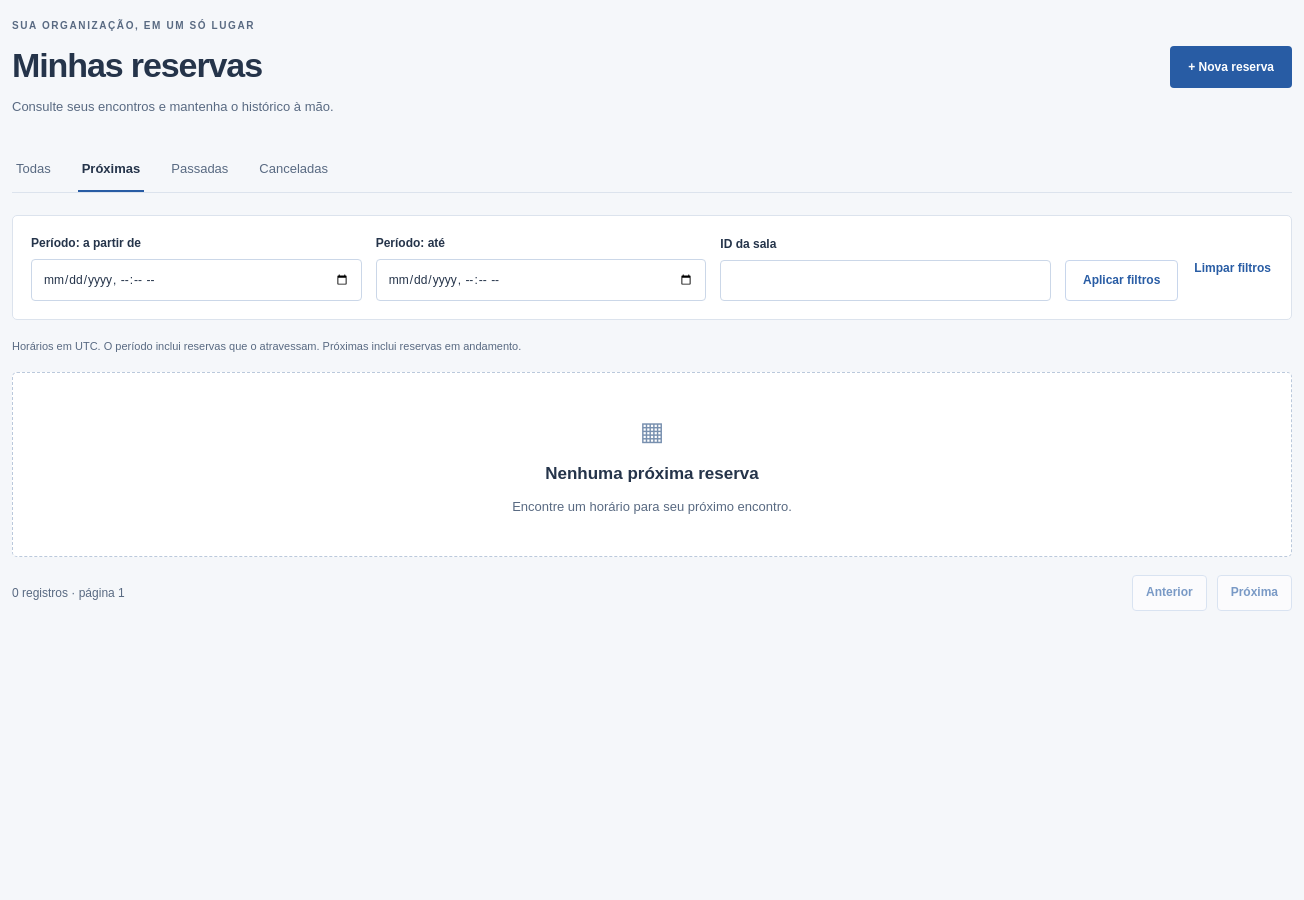
Test: recovery, focus, and persistent announcements › keeps filter correction focus while typing after invalid dates
Expected: the heading "Nenhuma próxima reserva" is shown, x1=545 y1=461 x2=759 y2=487
Type "2030-01-02T10:00" into the field labelled "Período: a partir de". click: (196, 280)
box: x1=31 y1=259 x2=362 y2=301
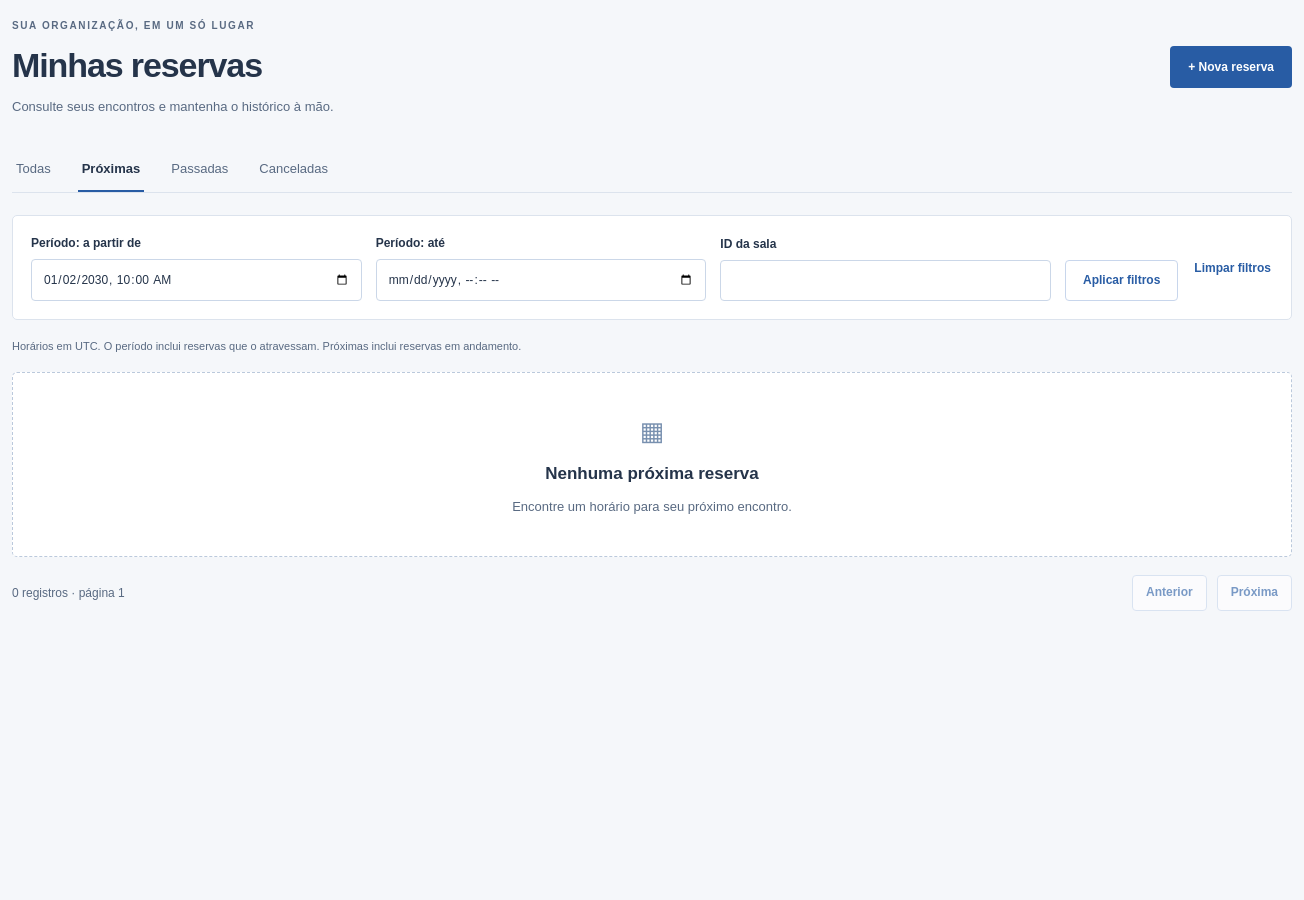
Type "2030-01-01T10:00" into the field labelled "Período: até". click: (541, 280)
box: x1=376 y1=259 x2=706 y2=301
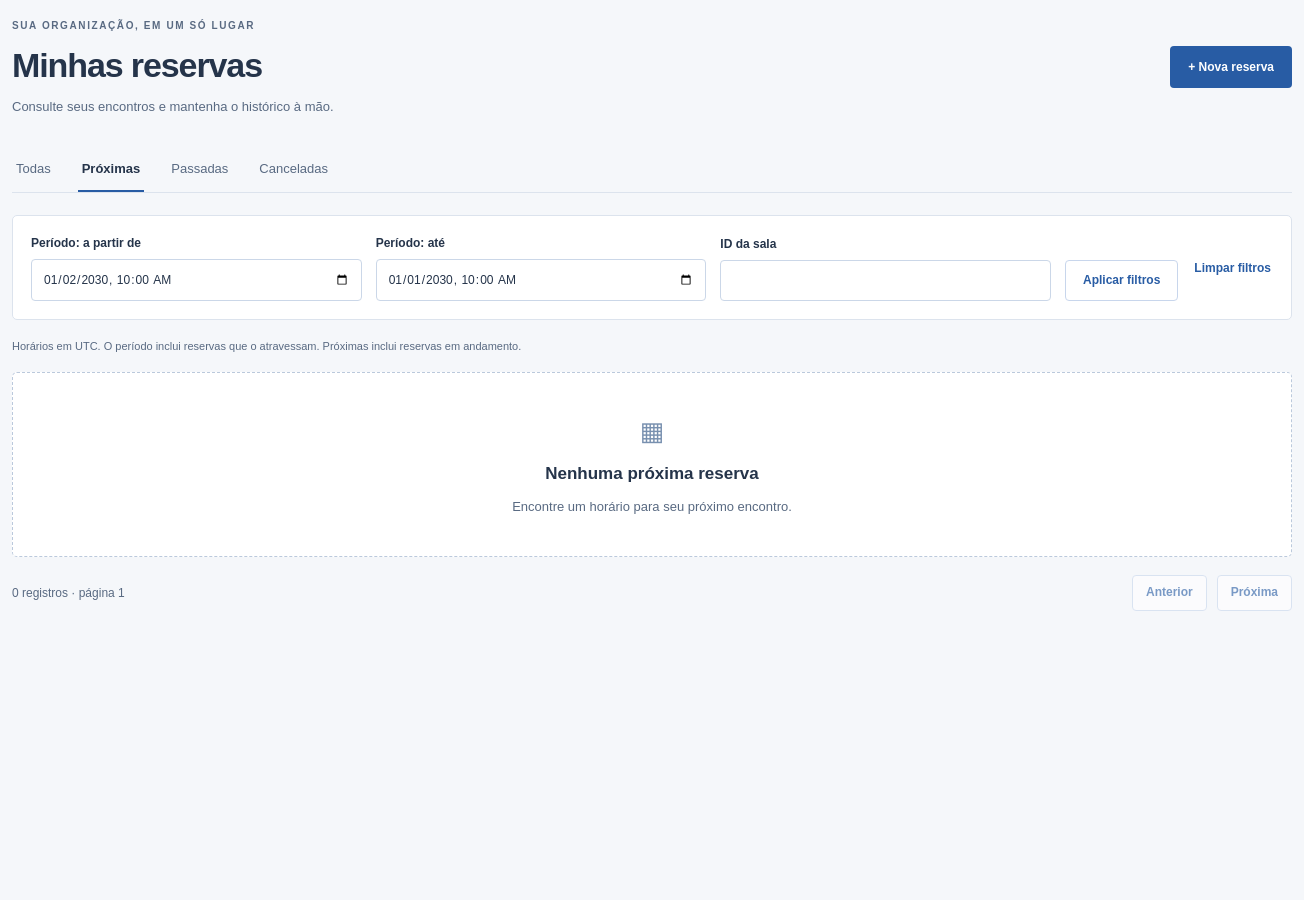
Click the button "Aplicar filtros". click: (1122, 281)
box: x1=1065 y1=260 x2=1178 y2=301
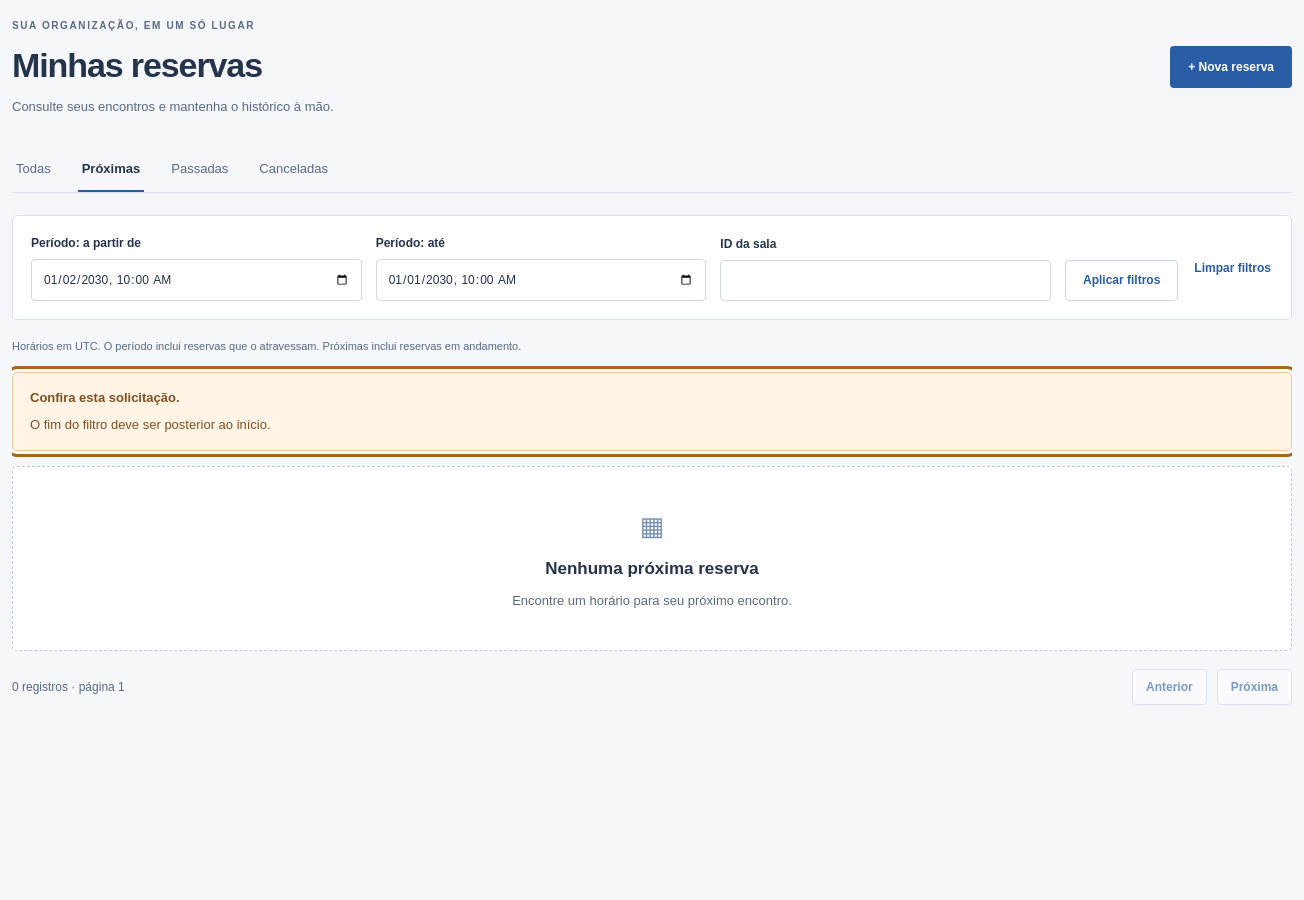
Click the number field labelled "ID da sala". click: (886, 280)
box: x1=720 y1=260 x2=1051 y2=301
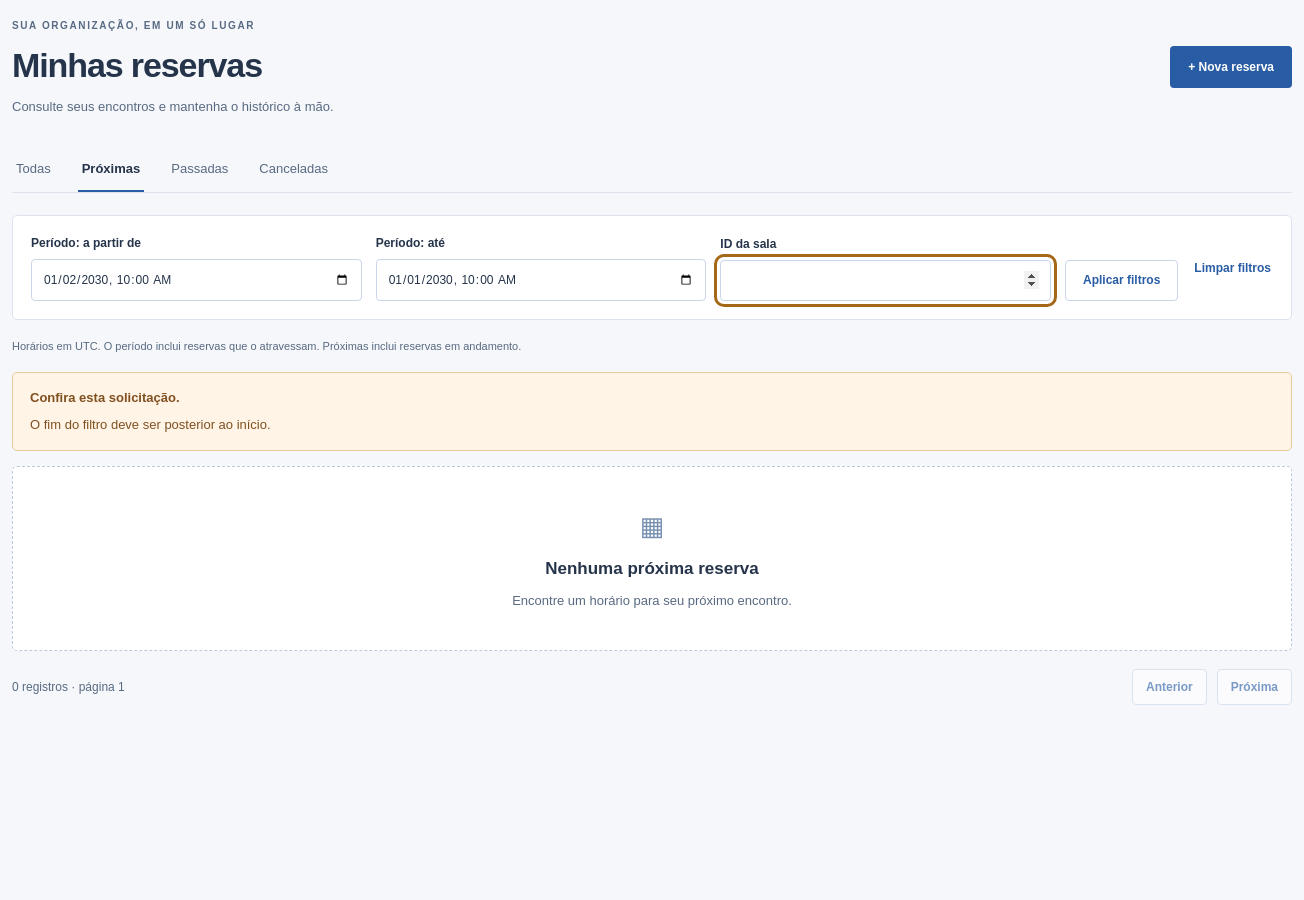
Type keys "123"
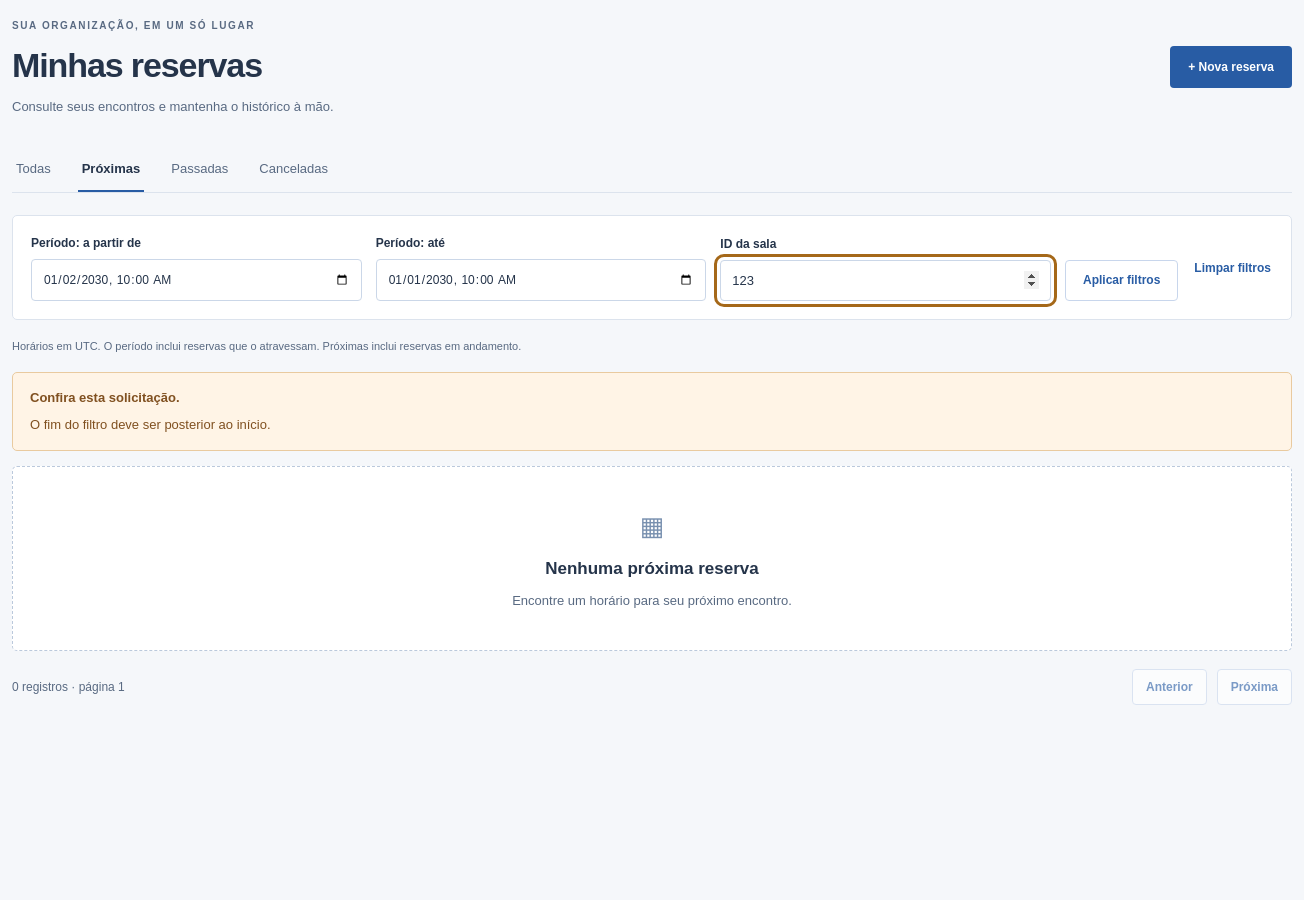
Expected: the number field labelled "ID da sala" holds "123", x1=720 y1=260 x2=1051 y2=301
